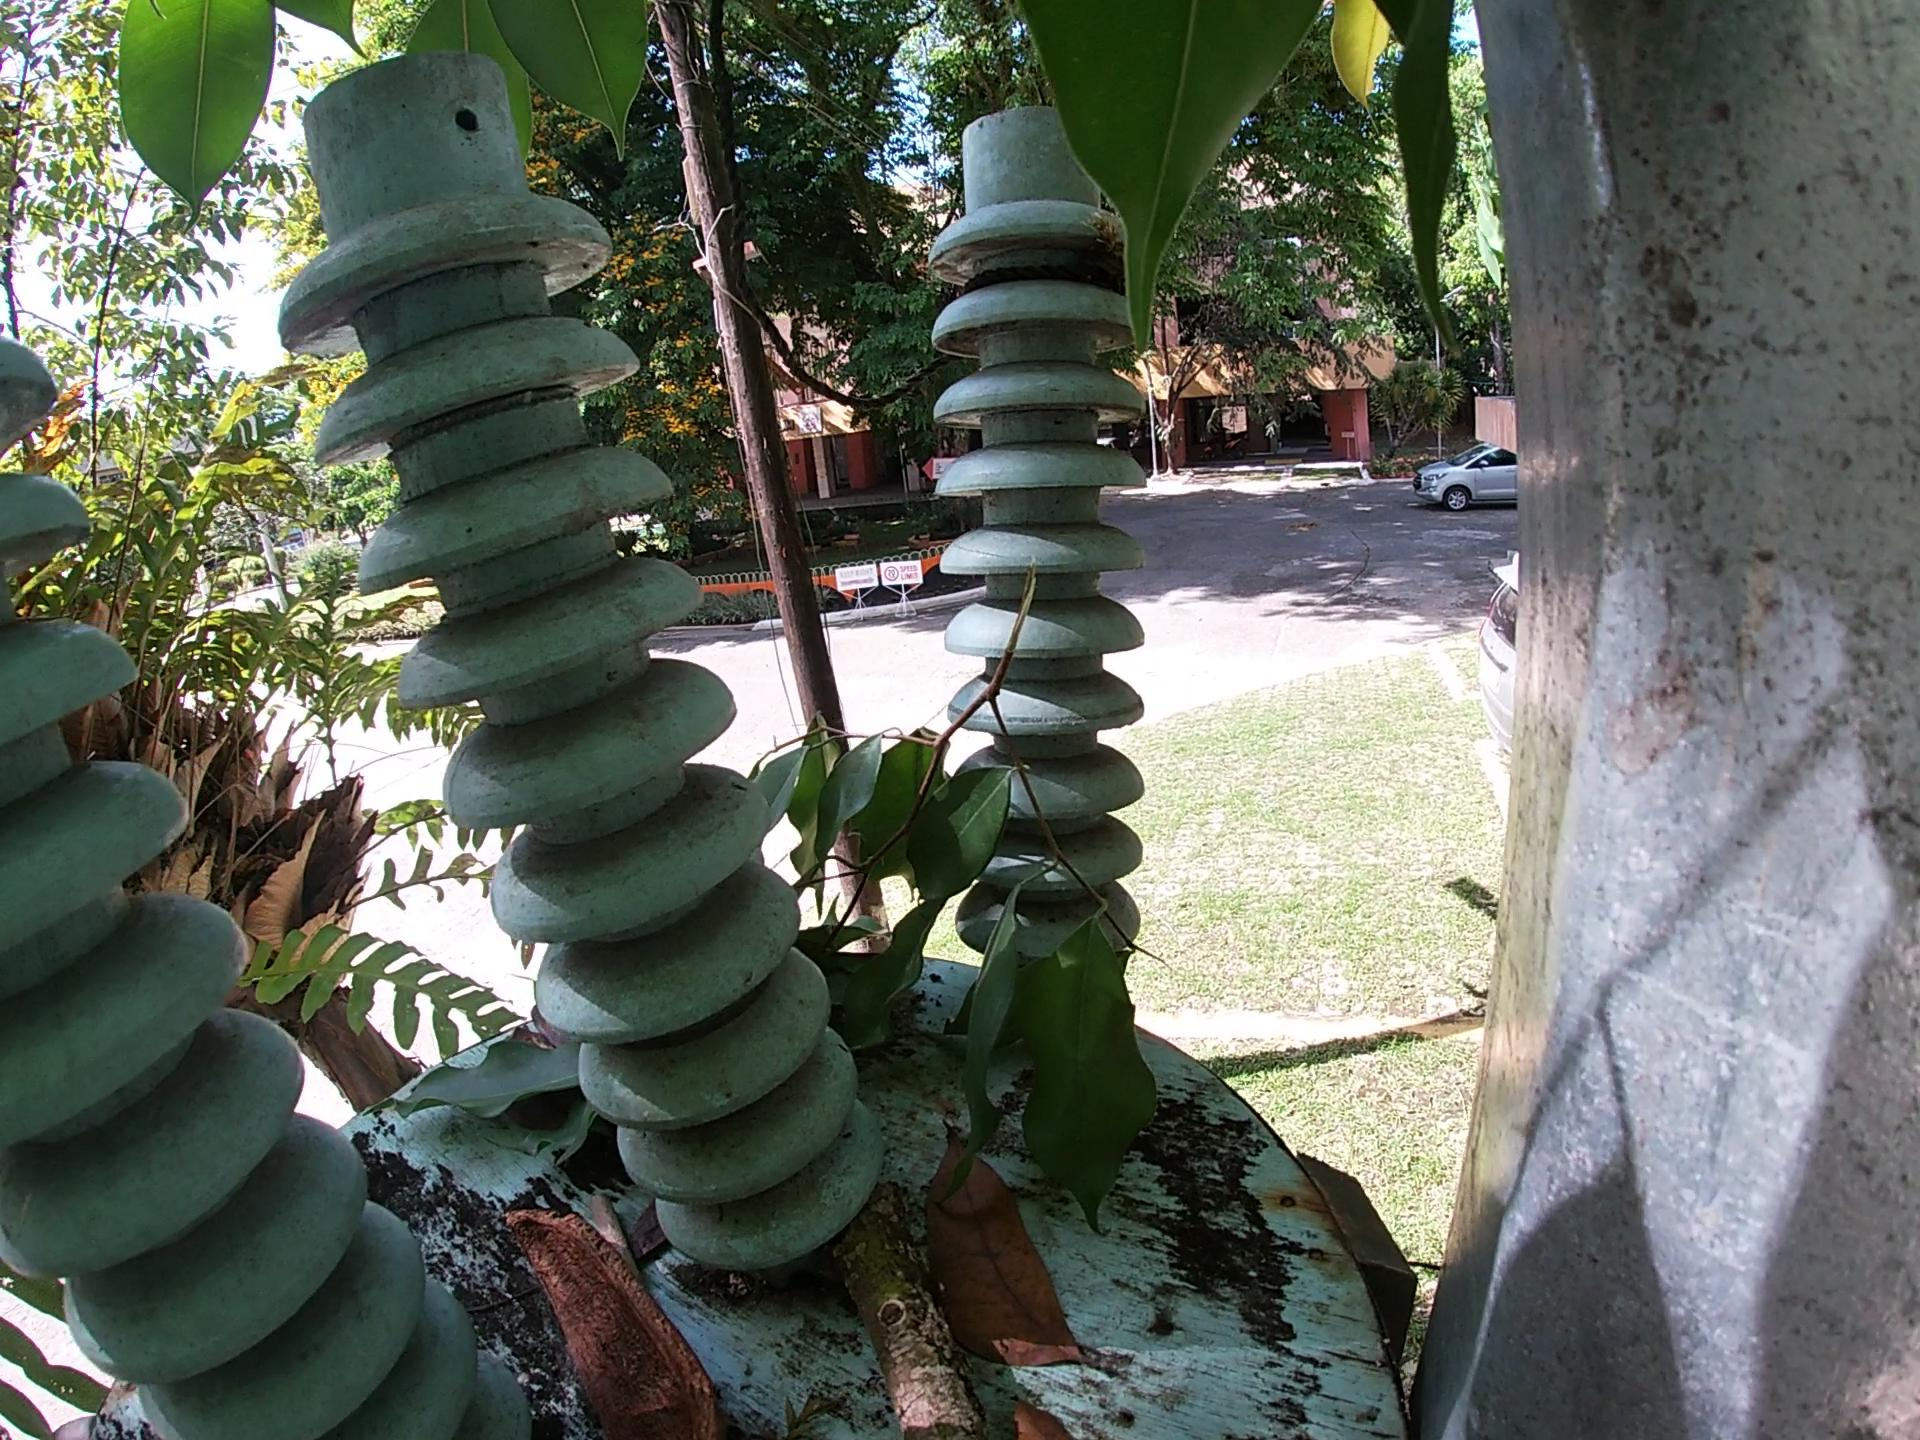branch with leaves: (759, 520, 1158, 1216)
leaf: (927, 1128, 1087, 1383), (384, 1035, 621, 1181), (1011, 1389, 1082, 1440)
mahogany fruit: (497, 1203, 742, 1440), (491, 1004, 603, 1063)
tree branch: (825, 1224, 980, 1440), (587, 1199, 680, 1284)
